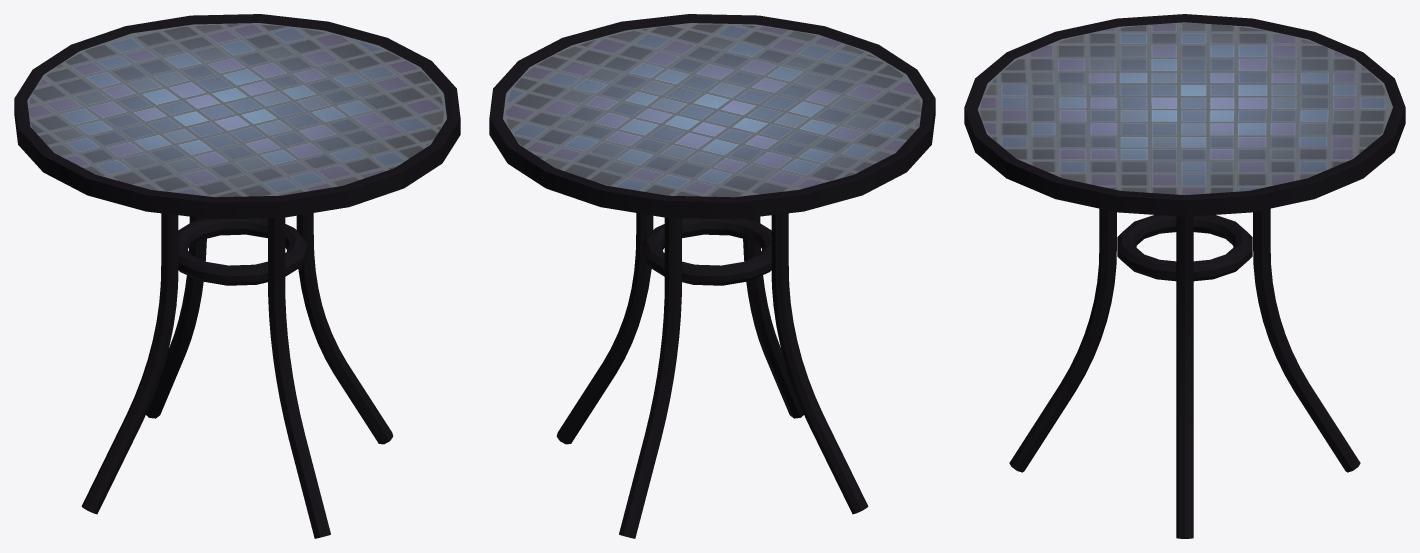
The model's file is Mosaic Table by Rose.obj.
3 views of the same model, side by side, from view 1: azimuth 30°, elevation 25°; view 2: azimuth 150°, elevation 25°; view 3: azimuth 270°, elevation 25° (orthographic).
Parts seen in each view (by area): view 1: TableTop, Leg, Leg3, Torus, Leg1, Leg2; view 2: TableTop, Leg2, Leg3, Torus, Leg1, Leg; view 3: TableTop, Leg1, Leg, Leg2, Torus.
Part boxes in pixels (box(x1,y1,x2,y2)): TableTop: box(14, 14, 460, 219); Leg: box(268, 217, 330, 538); Leg3: box(81, 213, 178, 514); Torus: box(178, 218, 307, 285); Leg1: box(296, 213, 393, 444); Leg2: box(146, 216, 206, 418); TableTop: box(489, 14, 935, 219); Leg2: box(619, 217, 681, 538); Leg3: box(771, 213, 868, 514); Torus: box(642, 218, 771, 285); Leg1: box(556, 213, 653, 444); Leg: box(743, 216, 803, 418); TableTop: box(964, 14, 1405, 216); Leg1: box(1176, 216, 1193, 538); Leg: box(1009, 208, 1116, 472); Leg2: box(1253, 208, 1360, 472); Torus: box(1117, 215, 1252, 281).
Size of the model in its own units: 2 by 1.82 by 2.
2 materials, 1 textured.
